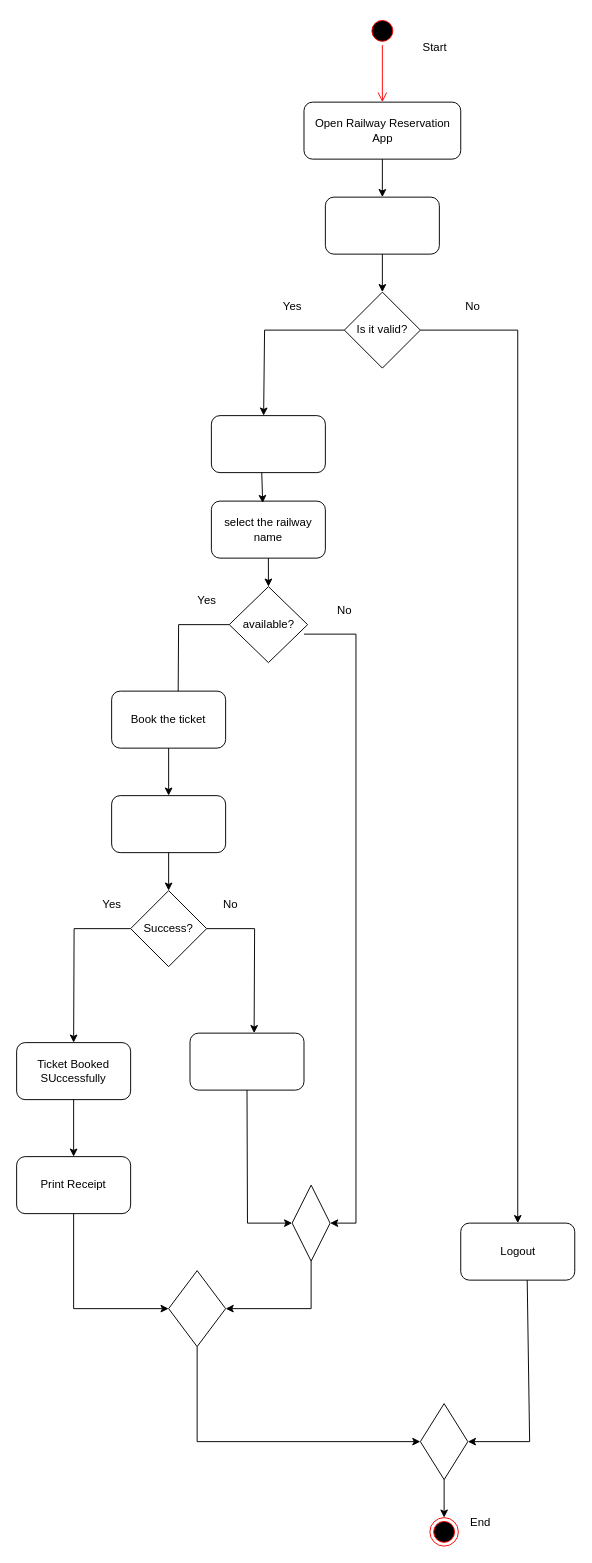
Some shapes in this 592 by 1563 pixel diagram are drawn without their labels. The centre of each missing label's shape, as x and y in pixels:
"Cancel Reservation" goes at point (246, 1061).
"Enter credentials" goes at point (381, 225).
"Payment Detals" goes at point (168, 824).
"Search for the route" goes at point (267, 444).
